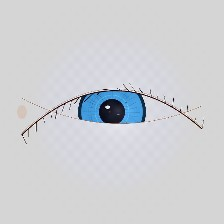pterygium_lesion: (23, 97, 61, 127)
